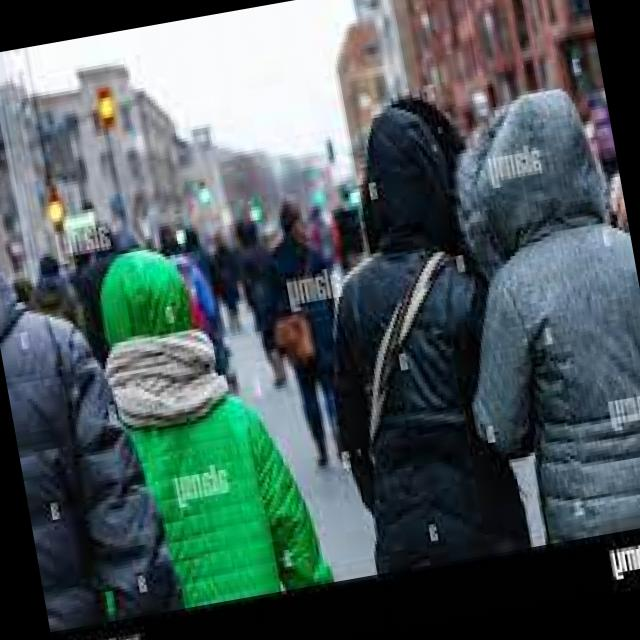Jacket: (304, 230, 548, 590), (443, 213, 640, 556), (0, 279, 181, 640), (114, 351, 328, 624), (251, 222, 351, 372)
